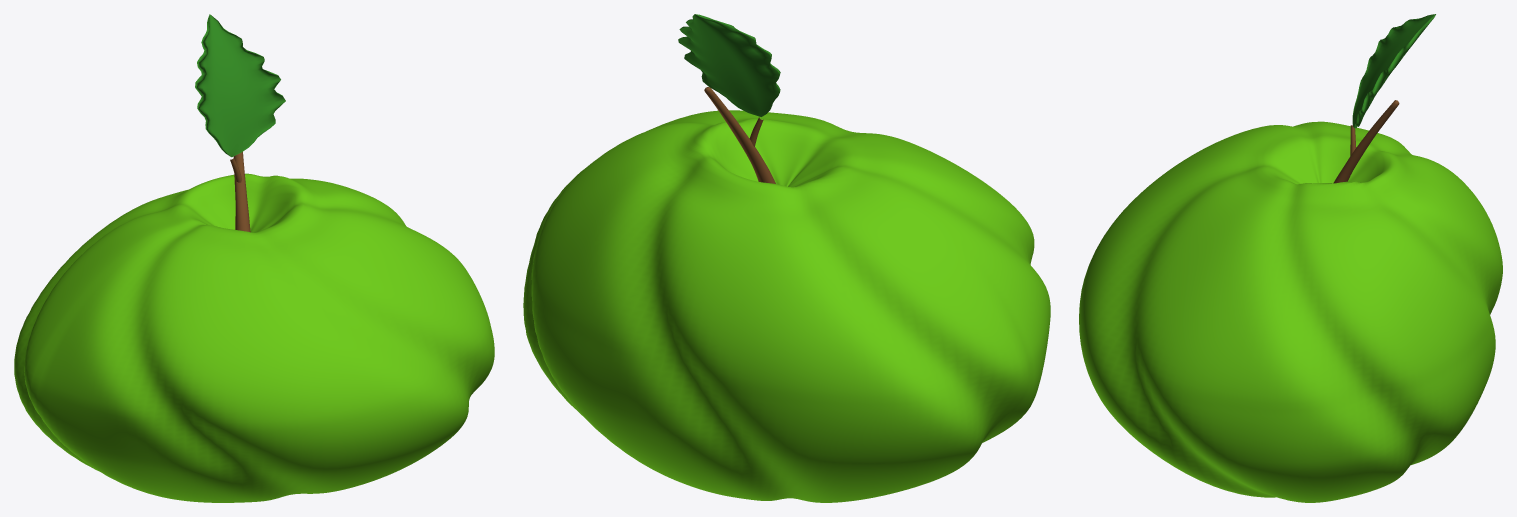
The model's file is apple_whole_real.glb.
3 views of the same model, side by side, from view 1: azimuth 30°, elevation 25°; view 2: azimuth 150°, elevation 25°; view 3: azimuth 270°, elevation 25° (orthographic). The views are drawn at different scales.
Parts seen in each view (by area): view 1: Skin, Leaf, Stem; view 2: Skin, Leaf, Stem; view 3: Skin, Leaf, Stem.
Part boxes in pixels (bbox=[...]): Skin: bbox=[14, 173, 494, 502]; Leaf: bbox=[195, 14, 285, 157]; Stem: bbox=[230, 152, 250, 232]; Skin: bbox=[523, 110, 1050, 502]; Leaf: bbox=[678, 14, 780, 116]; Stem: bbox=[704, 87, 775, 183]; Skin: bbox=[1079, 121, 1502, 502]; Leaf: bbox=[1352, 14, 1435, 128]; Stem: bbox=[1333, 100, 1399, 183].
Size of the model in its own units: 2.33 by 2.24 by 1.89.
